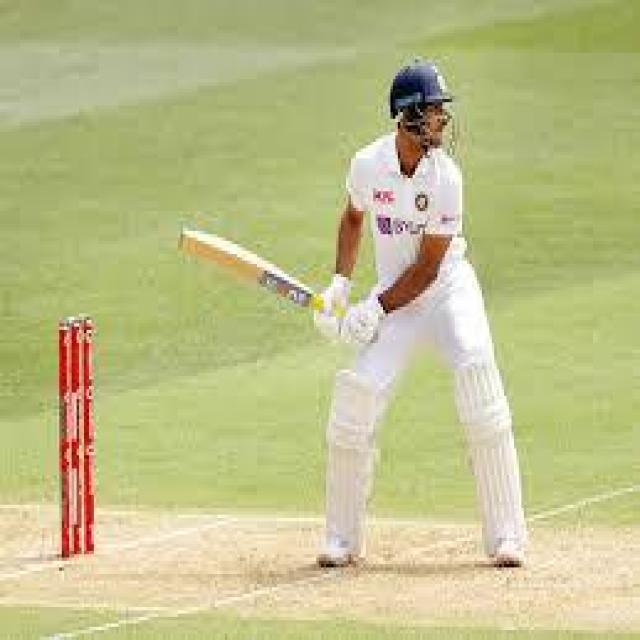bat: (172, 214, 312, 320)
toe: (173, 220, 203, 256)
